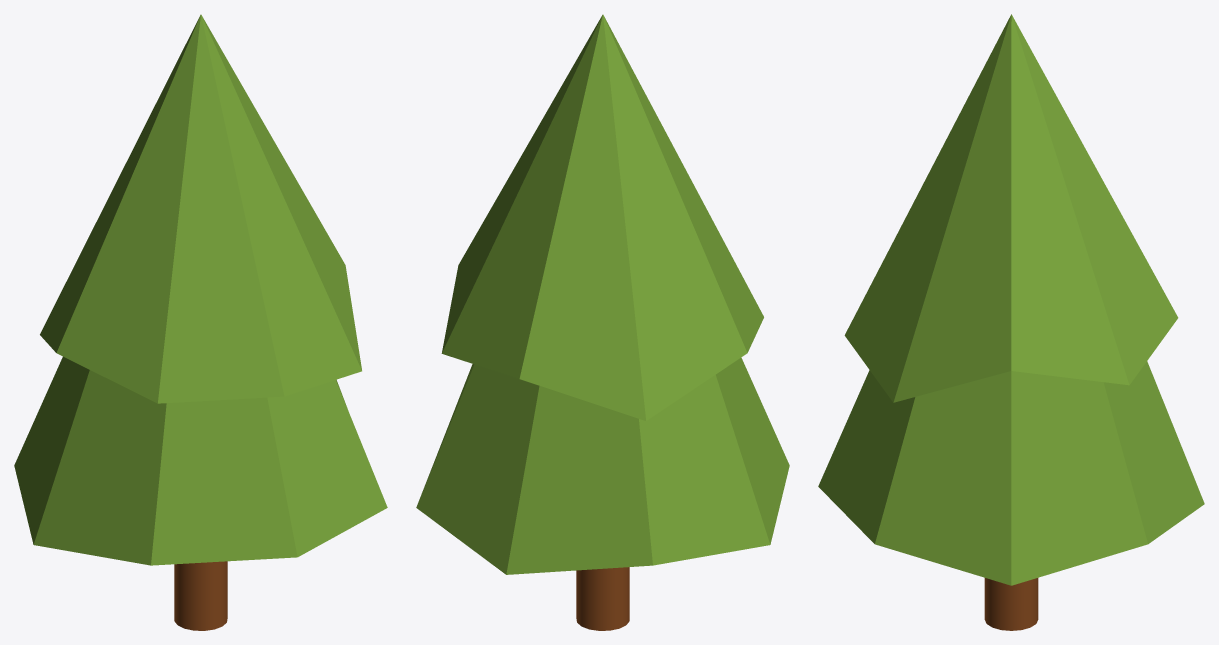
Rendered from Small Tree 1 Model.fbx.
The picture shows the model from 3 angles, left to right: view 1: azimuth 30°, elevation 25°; view 2: azimuth 150°, elevation 25°; view 3: azimuth 270°, elevation 25°; orthographic projection.
Parts seen in each view (by area): view 1: Small Tree 1; view 2: Small Tree 1; view 3: Small Tree 1.
Boxes of the visible parts, bbox=[...] form: Small Tree 1: bbox=[14, 14, 387, 630]; Small Tree 1: bbox=[416, 14, 789, 630]; Small Tree 1: bbox=[818, 14, 1204, 630].
Bounding box in the file's own units: 180 × 311 × 180.
